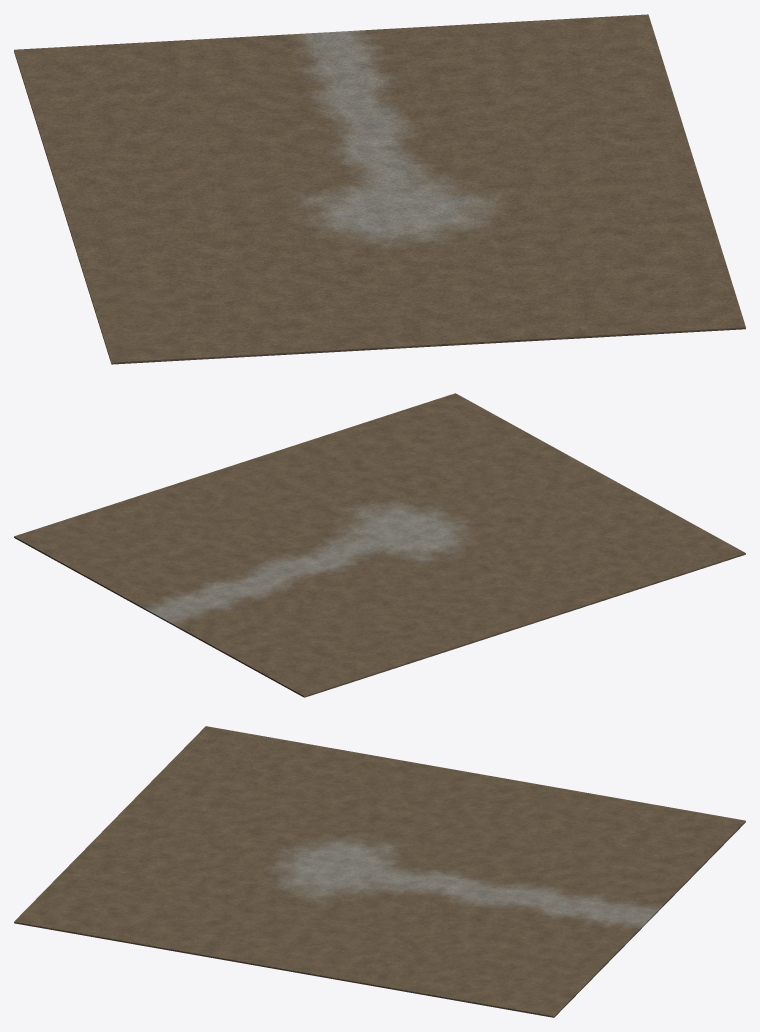
3 views of the same model, one above another, from view 1: azimuth 30°, elevation 25°; view 2: azimuth 150°, elevation 25°; view 3: azimuth 270°, elevation 25° (orthographic). The views are drawn at different scales.
Visible parts, largest first — view 1: Ground_0_0_0_010_110, Ground_-1_0_0_110_010, Ground_0_0_0_110, Ground_-1_0_0_010, Ground_0_0_0_100, Ground_0_-1_0_100, Ground_0_-1_0_110, Ground_0_0_0_000_110, Ground_-1_-1_0_100_010, Ground_-1_-1_0_110_000, Ground_0_0_0_010_100, Ground_-1_-1_0_100_000 (+28 smaller); view 2: Ground_0_-1_0_100, Ground_0_0_0_100, Ground_0_-1_0_110, Ground_0_0_0_110, Ground_-1_-1_0_100_000, Ground_0_-1_0_000_100, Ground_-1_-1_0_000, Ground_-1_0_0_000, Ground_-1_0_0_010, Ground_-1_-1_0_010, Ground_-1_0_0_100_000, Ground_-1_0_0_110_000 (+28 smaller); view 3: Ground_-1_-1_0_000, Ground_-1_0_0_000, Ground_-1_-1_0_010, Ground_-1_0_0_010, Ground_-1_-1_0_100_000, Ground_0_-1_0_000_100, Ground_0_-1_0_100, Ground_0_0_0_110, Ground_0_0_0_100, Ground_0_-1_0_110, Ground_-1_0_0_100_010, Ground_0_0_0_000_110 (+28 smaller).
Part boxes in pixels (bbox=[...]): Ground_0_0_0_010_110: bbox=[178, 310, 349, 359]; Ground_-1_0_0_110_010: bbox=[496, 292, 666, 342]; Ground_0_0_0_110: bbox=[87, 280, 190, 364]; Ground_-1_0_0_010: bbox=[642, 249, 745, 333]; Ground_0_0_0_100: bbox=[62, 201, 166, 285]; Ground_0_-1_0_100: bbox=[14, 45, 117, 128]; Ground_0_-1_0_110: bbox=[38, 123, 141, 206]; Ground_0_0_0_000_110: bbox=[154, 232, 324, 279]; Ground_-1_-1_0_100_010: bbox=[423, 58, 593, 105]; Ground_-1_-1_0_110_000: bbox=[435, 97, 605, 144]; Ground_0_0_0_010_100: bbox=[166, 271, 336, 318]; Ground_-1_-1_0_100_000: bbox=[411, 19, 581, 66]; Ground_0_-1_0_100: bbox=[268, 640, 414, 697]; Ground_0_0_0_100: bbox=[489, 569, 635, 625]; Ground_0_-1_0_110: bbox=[379, 605, 525, 661]; Ground_0_0_0_110: bbox=[600, 533, 745, 589]; Ground_-1_-1_0_100_000: bbox=[50, 538, 177, 597]; Ground_0_-1_0_000_100: bbox=[195, 618, 322, 677]; Ground_-1_-1_0_000: bbox=[14, 500, 160, 557]; Ground_-1_0_0_000: bbox=[235, 429, 380, 484]; Ground_-1_0_0_010: bbox=[346, 393, 491, 448]; Ground_-1_-1_0_010: bbox=[125, 465, 270, 520]; Ground_-1_0_0_100_000: bbox=[271, 467, 398, 524]; Ground_-1_0_0_110_000: bbox=[382, 431, 508, 488]; Ground_-1_-1_0_000: bbox=[419, 968, 578, 1017]; Ground_-1_0_0_000: bbox=[149, 921, 307, 970]; Ground_-1_-1_0_010: bbox=[284, 944, 442, 993]; Ground_-1_0_0_010: bbox=[14, 897, 172, 946]; Ground_-1_-1_0_100_000: bbox=[511, 931, 625, 992]; Ground_0_-1_0_000_100: bbox=[607, 833, 721, 895]; Ground_0_-1_0_100: bbox=[587, 797, 745, 846]; Ground_0_0_0_110: bbox=[182, 726, 340, 773]; Ground_0_0_0_100: bbox=[317, 750, 475, 797]; Ground_0_-1_0_110: bbox=[452, 773, 610, 821]; Ground_-1_0_0_100_010: bbox=[173, 872, 287, 932]; Ground_0_0_0_000_110: bbox=[269, 774, 383, 834].
Bounding box in the file's own units: 132 × 0.33 × 140.
Materials: 40 (40 with a texture image).
